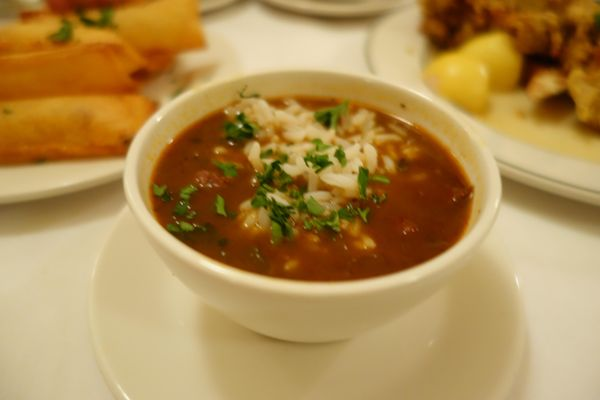sushi: (118, 63, 510, 344), (366, 1, 600, 210)
